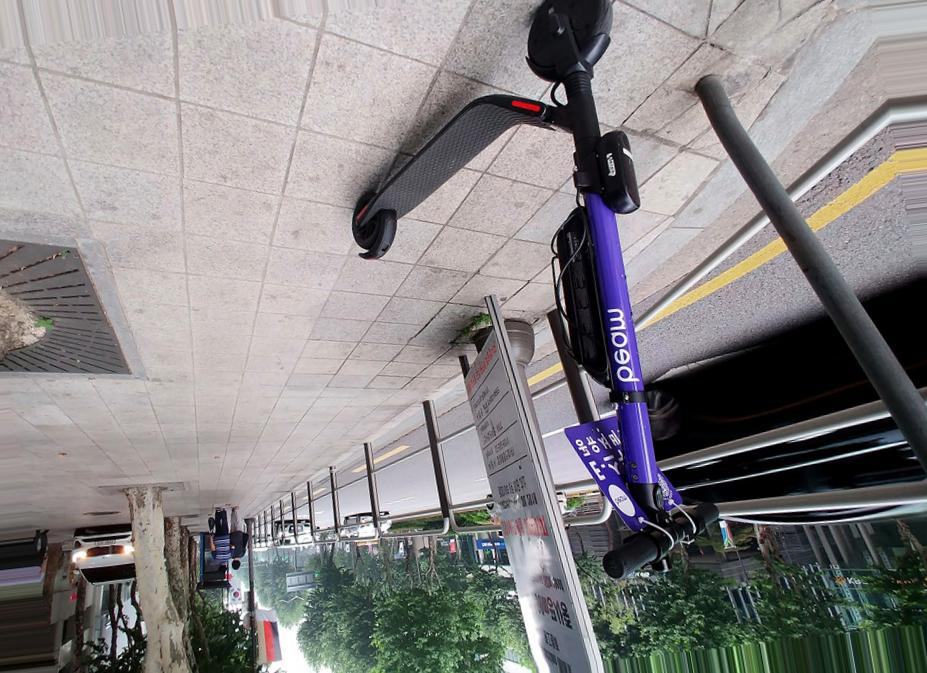scooter: (349, 1, 719, 578)
